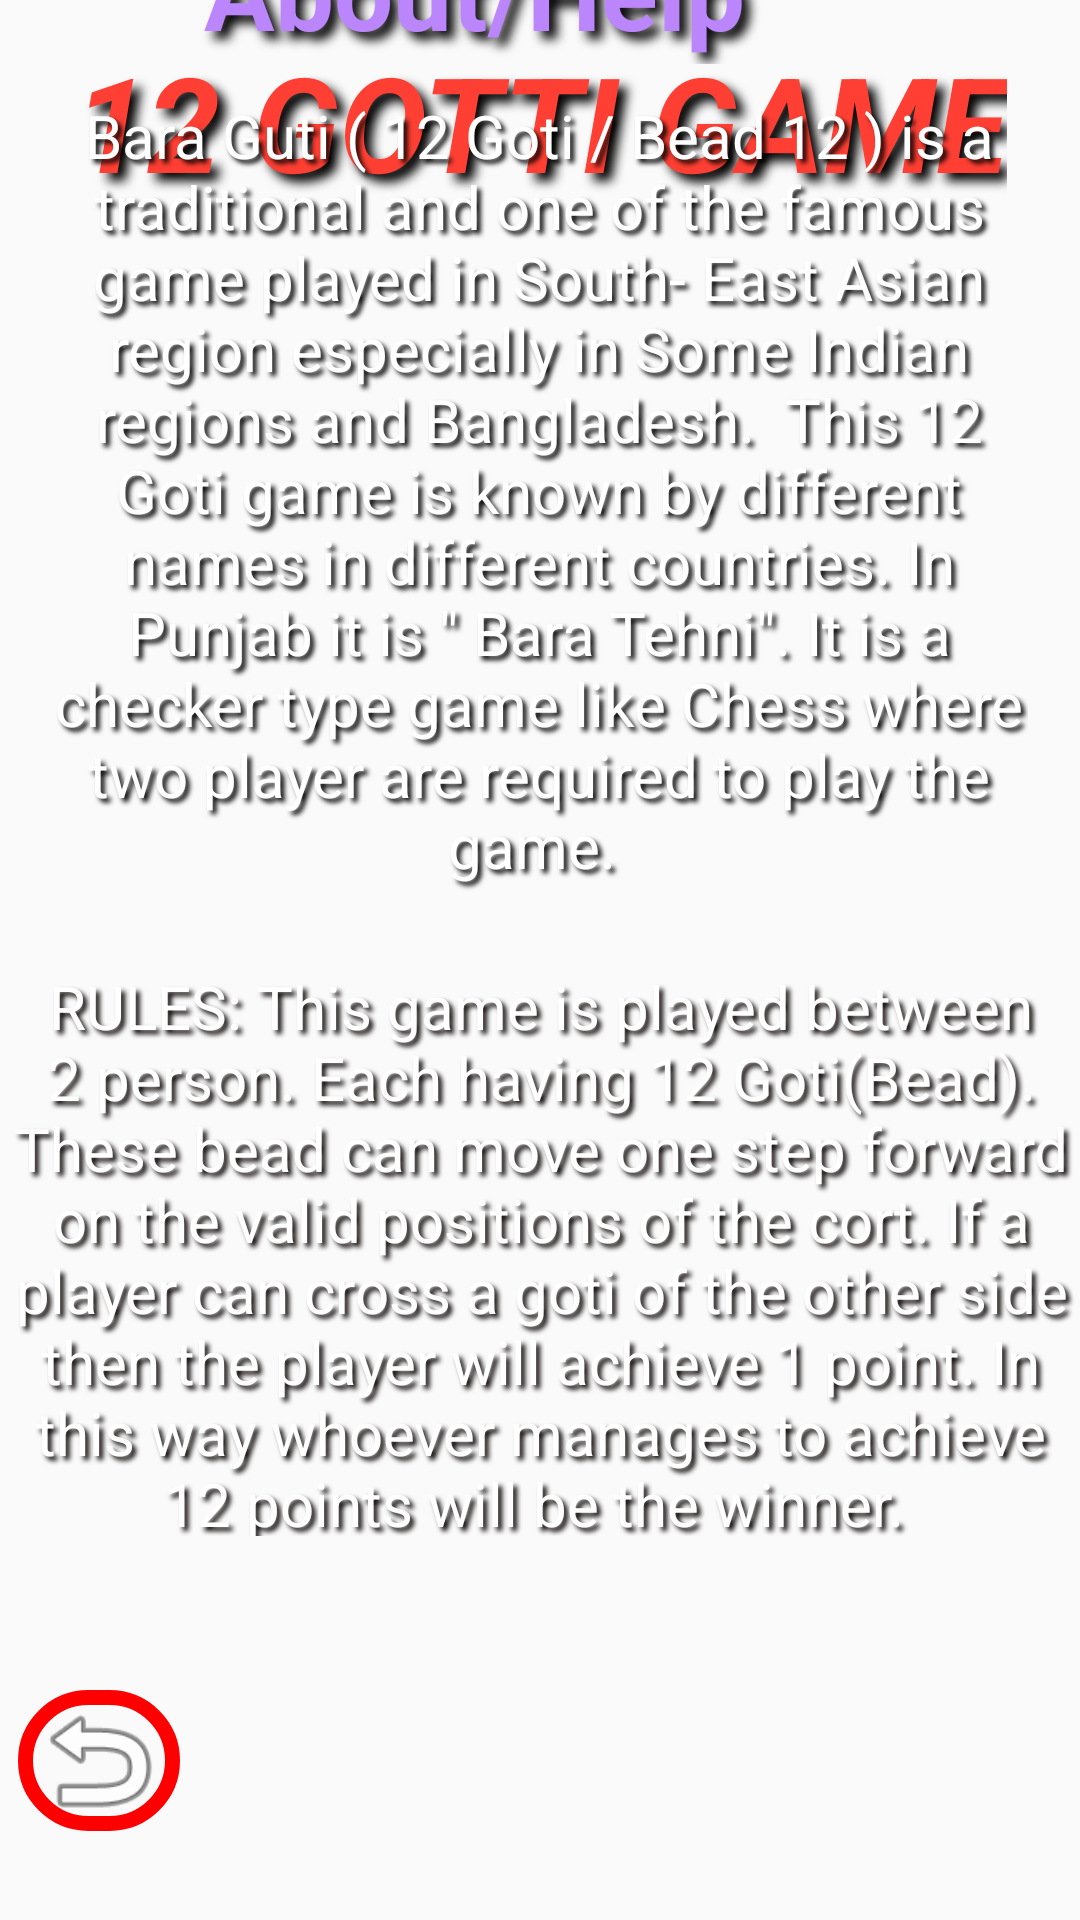

Icons on this 1080x1920 Android screen, each with the point to tap as (x,y):
revert: (99,1760)
